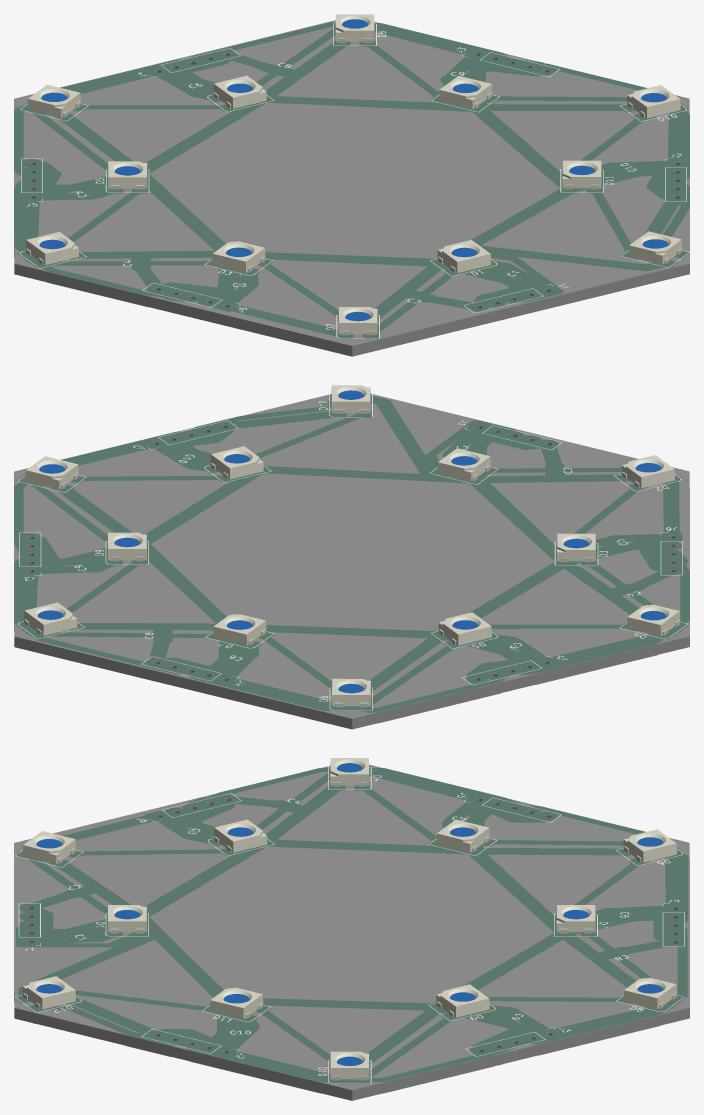
The picture shows the model from 3 angles, top to bottom: view 1: azimuth 30°, elevation 25°; view 2: azimuth 150°, elevation 25°; view 3: azimuth 270°, elevation 25°; orthographic projection.
Visible parts, largest first — view 1: =>[0:1:1:5], =>[0:1:1:4], =>[0:1:1:3], D6, D12, D7, D9, D10, D3, D1, D4, D11 (+3 smaller); view 2: =>[0:1:1:5], =>[0:1:1:4], =>[0:1:1:3], D1, D10, D8, D11, D5, D7, D2, D4, D3 (+3 smaller); view 3: =>[0:1:1:5], =>[0:1:1:4], =>[0:1:1:3], D5, D3, D2, D12, D9, D6, D8, D11, D10 (+3 smaller).
Boxes of the visible parts, x1,y1,x2,y2 form: =>[0:1:1:5]: (14, 20, 689, 356); =>[0:1:1:4]: (14, 22, 689, 339); =>[0:1:1:3]: (19, 22, 689, 338); D6: (27, 84, 80, 117); D12: (629, 231, 682, 264); D7: (213, 75, 266, 108); D9: (439, 75, 492, 108); D10: (627, 85, 680, 118); D3: (212, 241, 265, 272); D1: (437, 240, 490, 273); D4: (25, 232, 78, 265); D11: (562, 160, 601, 189); =>[0:1:1:5]: (14, 394, 689, 729); =>[0:1:1:4]: (14, 393, 689, 723); =>[0:1:1:3]: (17, 393, 687, 710); D1: (437, 448, 490, 481); D10: (25, 456, 78, 489); D8: (24, 602, 77, 635); D11: (210, 446, 263, 479); D5: (438, 612, 491, 645); D7: (213, 614, 266, 645); D2: (622, 455, 674, 488); D4: (627, 604, 680, 636); D3: (557, 533, 595, 562); =>[0:1:1:5]: (14, 765, 689, 1100); =>[0:1:1:4]: (14, 766, 688, 1095); =>[0:1:1:3]: (15, 766, 684, 1083); D5: (436, 819, 489, 852); D3: (214, 819, 267, 852); D2: (22, 831, 75, 864); D12: (22, 976, 75, 1009); D9: (436, 984, 489, 1017); D6: (623, 829, 676, 862); D8: (623, 978, 676, 1009); D11: (210, 987, 263, 1019); D10: (330, 1051, 369, 1080).
Size of the model in its own units: 0.1 by 0.00337 by 0.0866.
